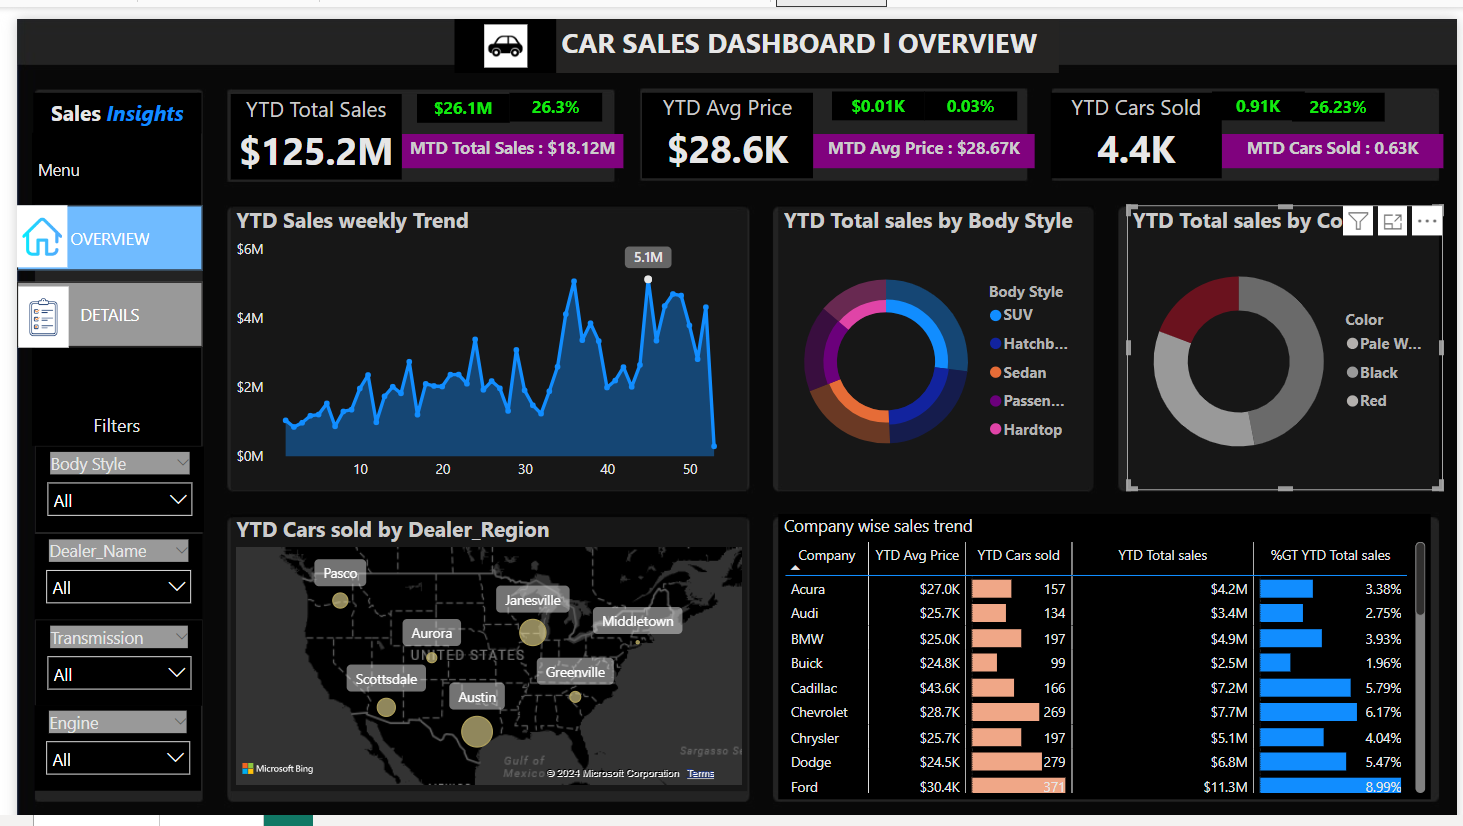

This screenshot's page, from the dashboard's own definition file:
{"tool":"powerbi","page":{"name":"OVERVIEW","canvas":[1280,720],"ordinal":0},"visuals":[{"type":"card","title":"YTD  Total Sales","fields":{"Values":["car_data.YTD Total sales"]},"box":[190.6,66.3,152,76],"z":0},{"type":"card","fields":{"Values":["car_data.Sales difference"]},"box":[355.8,66.3,82,25.3],"z":1000},{"type":"card","fields":{"Values":["car_data.YOY Sales Growth"]},"box":[437.8,65.1,82,25.3],"z":2000},{"type":"card","fields":{"Values":["car_data.MTD KPI"]},"box":[342.5,102.5,196.6,30.2],"z":3000},{"type":"card","title":"YTD Avg Price","fields":{"Values":["Calendar table.YTD Avg Price"]},"box":[556,65.1,152,76],"z":4000},{"type":"card","fields":{"Values":["car_data.Avg Price Diff"]},"box":[724.8,63.9,82,25.3],"z":5000},{"type":"card","fields":{"Values":["car_data.YOY Avg Price growth"]},"box":[806.8,63.9,82,25.3],"z":6000},{"type":"card","fields":{"Values":["car_data.MTD Avg price KPI"]},"box":[707.9,102.5,196.6,30.2],"z":7000},{"type":"card","title":"YTD Cars Sold","fields":{"Values":["car_data.YTD Cars sold"]},"box":[919,65.1,152,76],"z":8000},{"type":"card","fields":{"Values":["car_data.Cars Sold Diff"]},"box":[1062.5,63.9,82,25.3],"z":9000},{"type":"card","fields":{"Values":["car_data.YOY cars sold growth"]},"box":[1133.7,65.1,82,25.3],"z":10000},{"type":"card","fields":{"Values":["car_data.MTD cars sold KPI"]},"box":[1071,102.5,196.6,30.2],"z":11000},{"type":"areaChart","title":"YTD Sales weekly Trend","fields":{"Category":["Calendar table.Week"],"Y":["Sum(car_data.Price ($))","car_data.Max point"]},"box":[190.6,165.2,459.5,253.3],"z":12000},{"type":"donutChart","fields":{"Category":["car_data.Body Style"],"Y":["car_data.YTD Total sales"]},"box":[676.6,165.2,281,253.3],"z":13000},{"type":"donutChart","fields":{"Y":["car_data.YTD Total sales"],"Category":["car_data.Color"]},"box":[986.5,165.2,281,253.3],"z":14000},{"type":"map","fields":{"Size":["car_data.YTD Cars sold"],"Category":["car_data.Dealer_Region"]},"box":[190.6,440.2,459.5,246],"z":15000},{"type":"tableEx","title":"Company wise sales trend","fields":{"Values":["car_data.Company","car_data.YTD Avg Price","car_data.YTD Cars sold","car_data.YTD Total sales1","car_data.YTD Total sales"]},"box":[676.6,440.2,580.1,253.3],"z":16000},{"type":"textbox","box":[478.8,0,447.4,48.2],"z":17000},{"type":"slicer","fields":{"Values":["car_data.Body Style"]},"box":[16.9,379.9,149.5,76],"z":18000},{"type":"slicer","fields":{"Values":["car_data.Dealer_Name"]},"box":[15.7,458.3,149.5,76],"z":19000},{"type":"slicer","fields":{"Values":["car_data.Transmission"]},"box":[16.9,534.3,148.3,76],"z":20000},{"type":"slicer","fields":{"Values":["car_data.Engine"]},"box":[15.7,610.3,148.3,76],"z":21000},{"type":"textbox","box":[13.3,291.9,150.8,86.8],"z":22000},{"type":"textbox","box":[14.5,65.1,149.5,36.2],"z":22001},{"type":"textbox","box":[13.3,101.3,150.8,63.9],"z":22002},{"type":"pageNavigator","box":[0,165.2,165.2,126.6],"z":22003},{"type":"image","box":[0,165.2,44.6,55.5],"z":22004},{"type":"image","box":[1.2,237.6,44.6,54.3],"z":22005},{"type":"image","box":[388.3,0,90.5,48.2],"z":22006}]}

Visuals, with their boxes on the page's 1280x720 design canvas (x1, y1, x2, y2). These are canvas units, not pixel positions in the 1463x826 screenshot, which may show the page scaled, cropped or inside an application window:
"YTD  Total Sales" card: <region>191, 66, 343, 142</region>
card - car_data.Sales difference: <region>356, 66, 438, 92</region>
card - car_data.YOY Sales Growth: <region>438, 65, 520, 90</region>
card - car_data.MTD KPI: <region>342, 102, 539, 133</region>
"YTD Avg Price" card: <region>556, 65, 708, 141</region>
card - car_data.Avg Price Diff: <region>725, 64, 807, 89</region>
card - car_data.YOY Avg Price growth: <region>807, 64, 889, 89</region>
card - car_data.MTD Avg price KPI: <region>708, 102, 904, 133</region>
"YTD Cars Sold" card: <region>919, 65, 1071, 141</region>
card - car_data.Cars Sold Diff: <region>1062, 64, 1144, 89</region>
card - car_data.YOY cars sold growth: <region>1134, 65, 1216, 90</region>
card - car_data.MTD cars sold KPI: <region>1071, 102, 1268, 133</region>
"YTD Sales weekly Trend" areaChart: <region>191, 165, 650, 418</region>
donutChart - car_data.Body Style x car_data.YTD Total sales: <region>677, 165, 958, 418</region>
donutChart - car_data.YTD Total sales x car_data.Color: <region>986, 165, 1268, 418</region>
map - car_data.YTD Cars sold x car_data.Dealer_Region: <region>191, 440, 650, 686</region>
"Company wise sales trend" tableEx: <region>677, 440, 1257, 694</region>
textbox: <region>479, 0, 926, 48</region>
slicer - car_data.Body Style: <region>17, 380, 166, 456</region>
slicer - car_data.Dealer_Name: <region>16, 458, 165, 534</region>
slicer - car_data.Transmission: <region>17, 534, 165, 610</region>
slicer - car_data.Engine: <region>16, 610, 164, 686</region>
textbox: <region>13, 292, 164, 379</region>
textbox: <region>14, 65, 164, 101</region>
textbox: <region>13, 101, 164, 165</region>
pageNavigator: <region>0, 165, 165, 292</region>
image: <region>0, 165, 45, 221</region>
image: <region>1, 238, 46, 292</region>
image: <region>388, 0, 479, 48</region>
